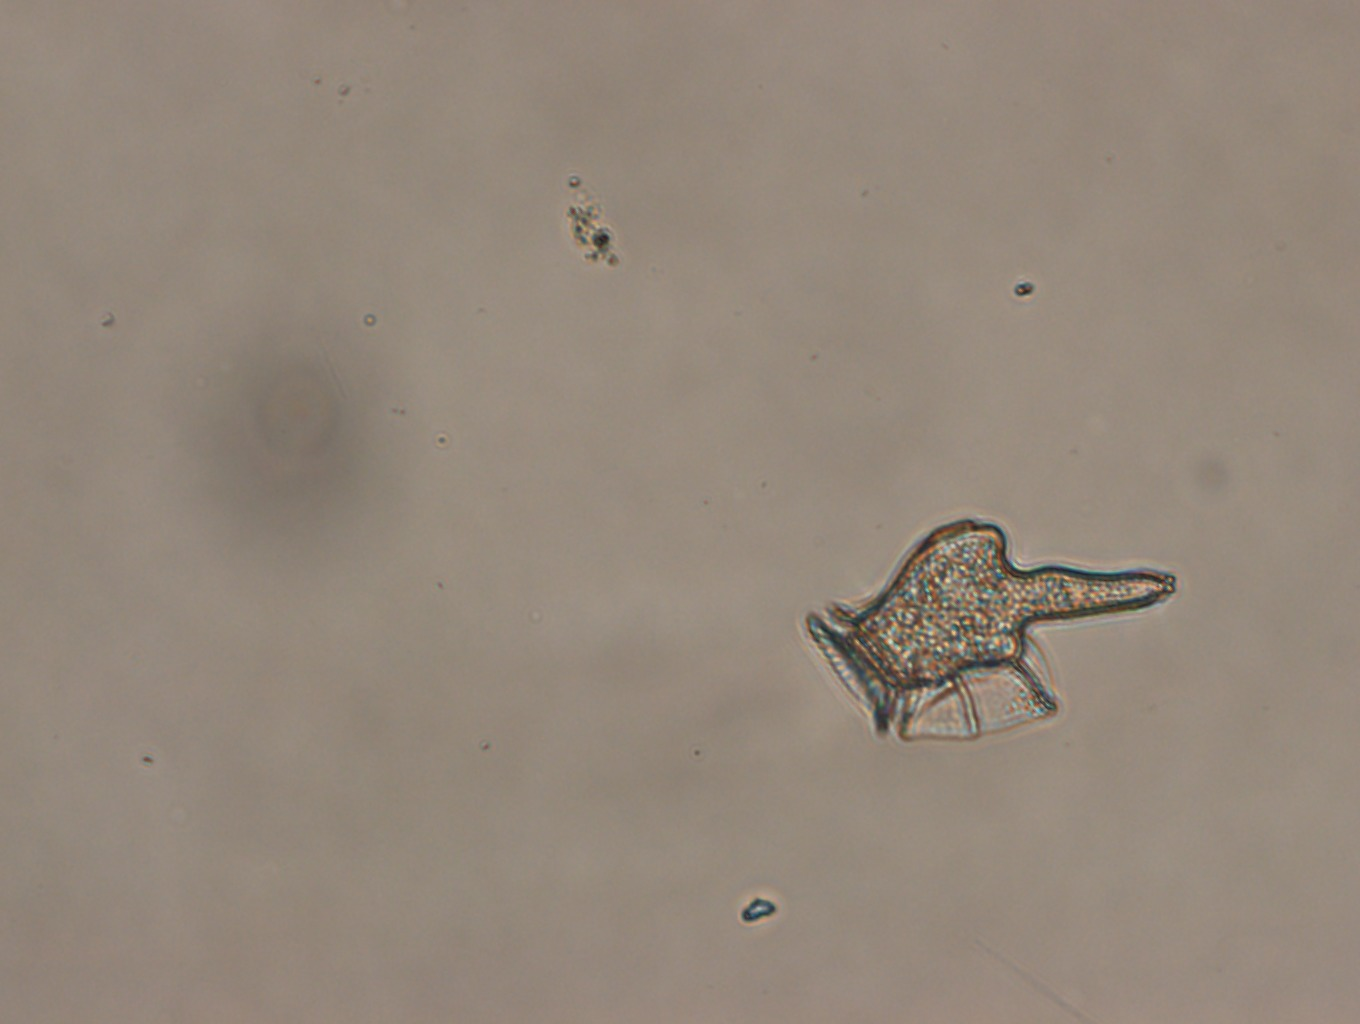dinophysis caudata: (804, 517, 1176, 741)
